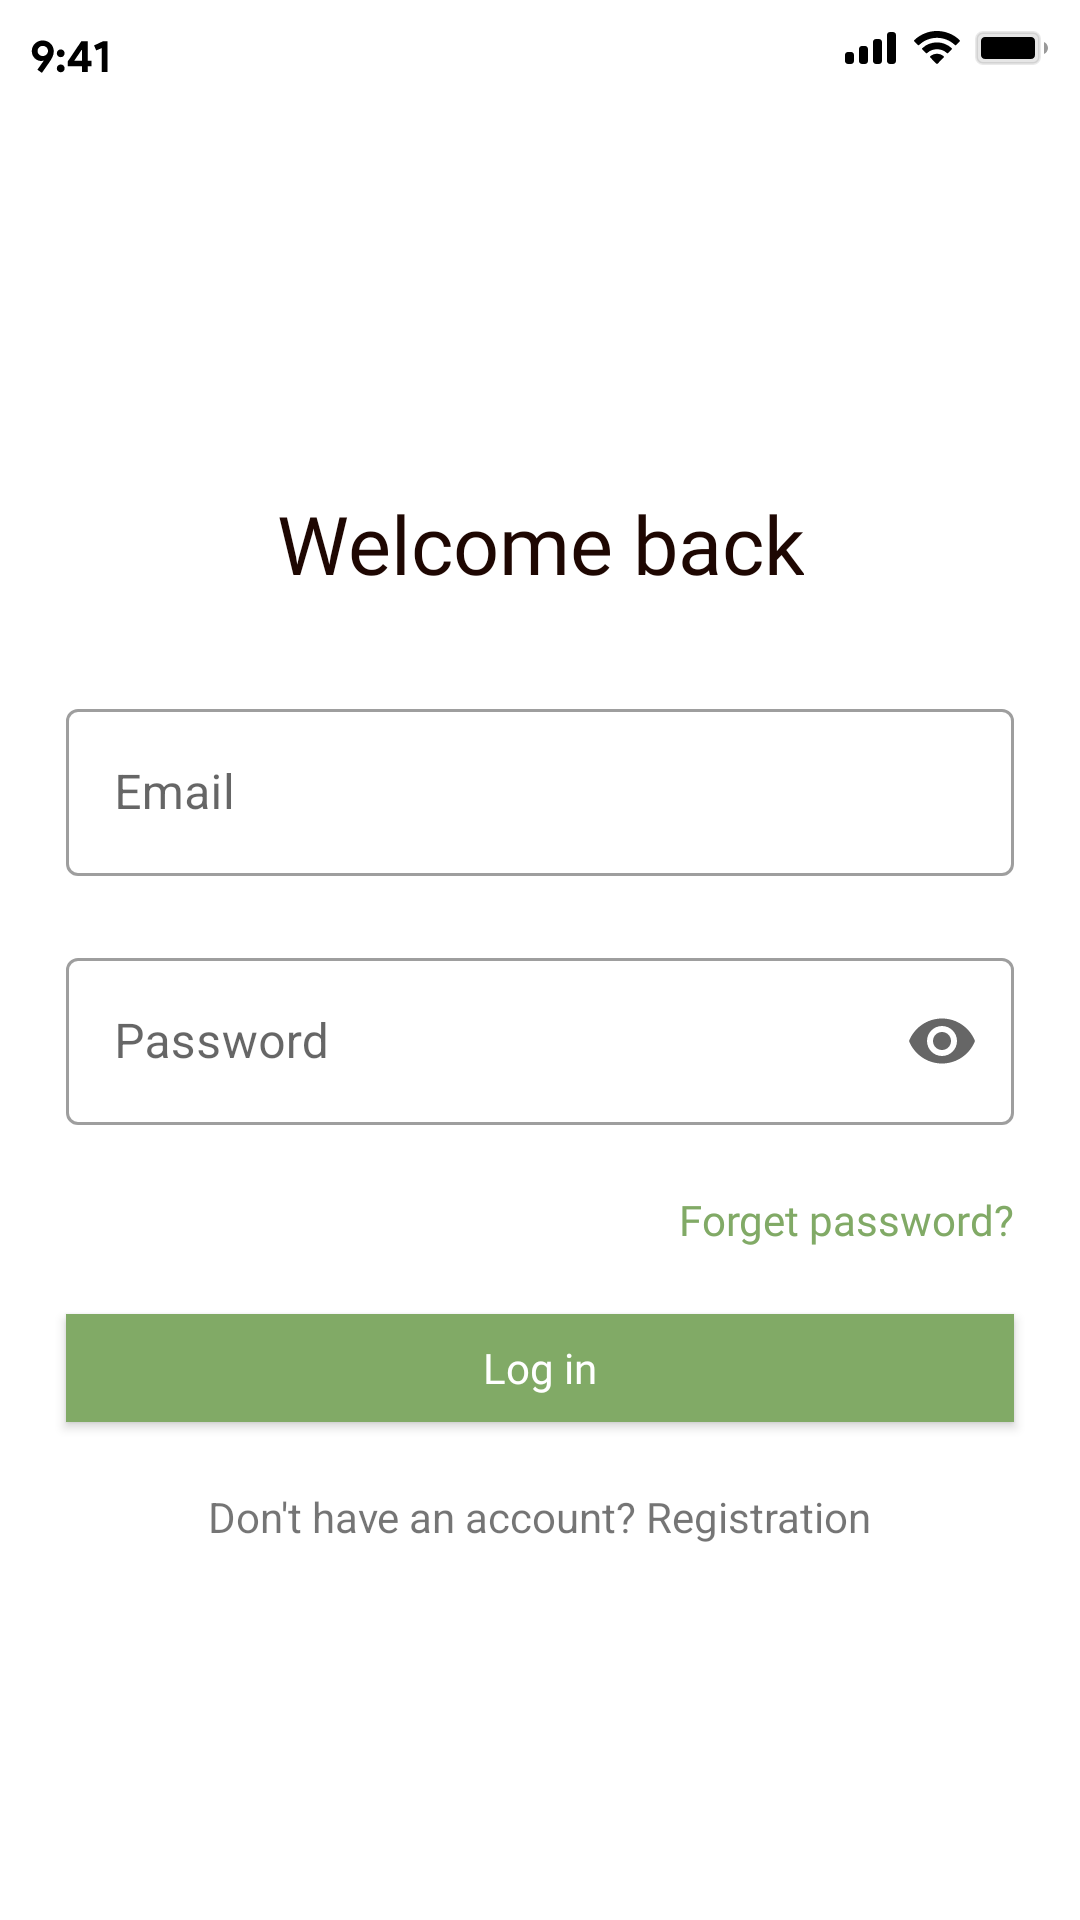

Screen size 1080px×1920px. Icon name, then its center in pixels as (x=x, y=y):
battery: (x=1012, y=48)
mobile signal: (x=870, y=48)
wifi: (x=937, y=47)
